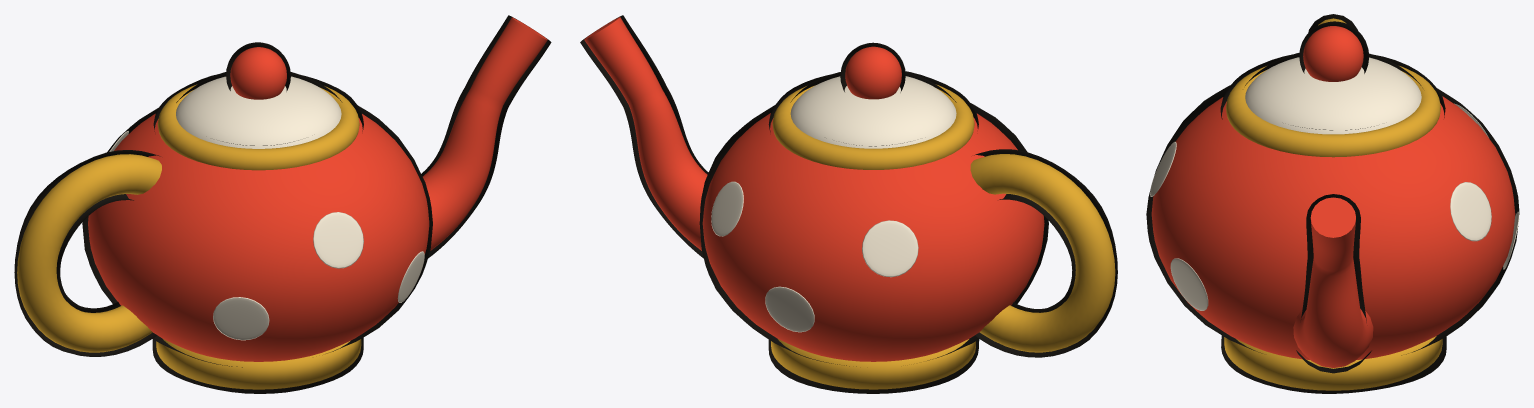
The model's file is teapot-v1.glb.
3 renders of one model, left to right at view 1: azimuth 30°, elevation 25°; view 2: azimuth 150°, elevation 25°; view 3: azimuth 270°, elevation 25°, orthographic. The views are drawn at different scales.
Parts seen in each view (by area): view 1: Teapot, Teapot_outline, Sphere.007, Sphere.006, Sphere.008; view 2: Teapot, Teapot_outline, Sphere.005, Sphere.004, Sphere.003; view 3: Teapot, Teapot_outline, Sphere.003, Sphere.008, Sphere.007.
Boxes of the visible parts, box(x1,y1,x2,y2) form: Teapot: box(17, 17, 547, 389); Teapot_outline: box(14, 15, 551, 393); Sphere.007: box(313, 212, 363, 268); Sphere.006: box(213, 297, 269, 340); Sphere.008: box(397, 251, 424, 302); Teapot: box(584, 17, 1115, 389); Teapot_outline: box(580, 15, 1117, 393); Sphere.005: box(862, 220, 918, 277); Sphere.004: box(765, 286, 814, 332); Sphere.003: box(711, 181, 743, 236); Teapot: box(1151, 18, 1515, 390); Teapot_outline: box(1146, 14, 1519, 393); Sphere.003: box(1450, 182, 1491, 241); Sphere.008: box(1170, 258, 1208, 310); Sphere.007: box(1150, 142, 1176, 196).
Bounding box in the file's own units: 4.3 × 2.36 × 2.46.
